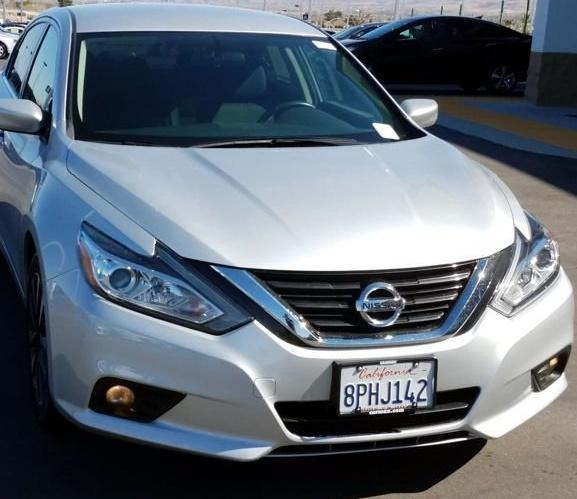Cars: (1, 6, 573, 462)
